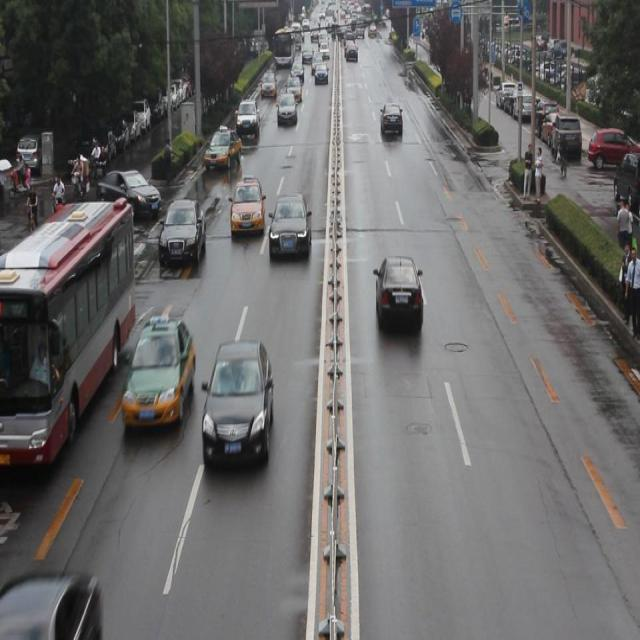car: (200, 340, 272, 468), (121, 316, 196, 426), (0, 569, 100, 640), (373, 251, 423, 334), (97, 166, 162, 220), (158, 198, 206, 268), (270, 192, 312, 256), (229, 175, 264, 237), (205, 127, 242, 170), (235, 99, 259, 139), (380, 102, 403, 140), (277, 94, 297, 128)
van: (0, 202, 134, 470)
